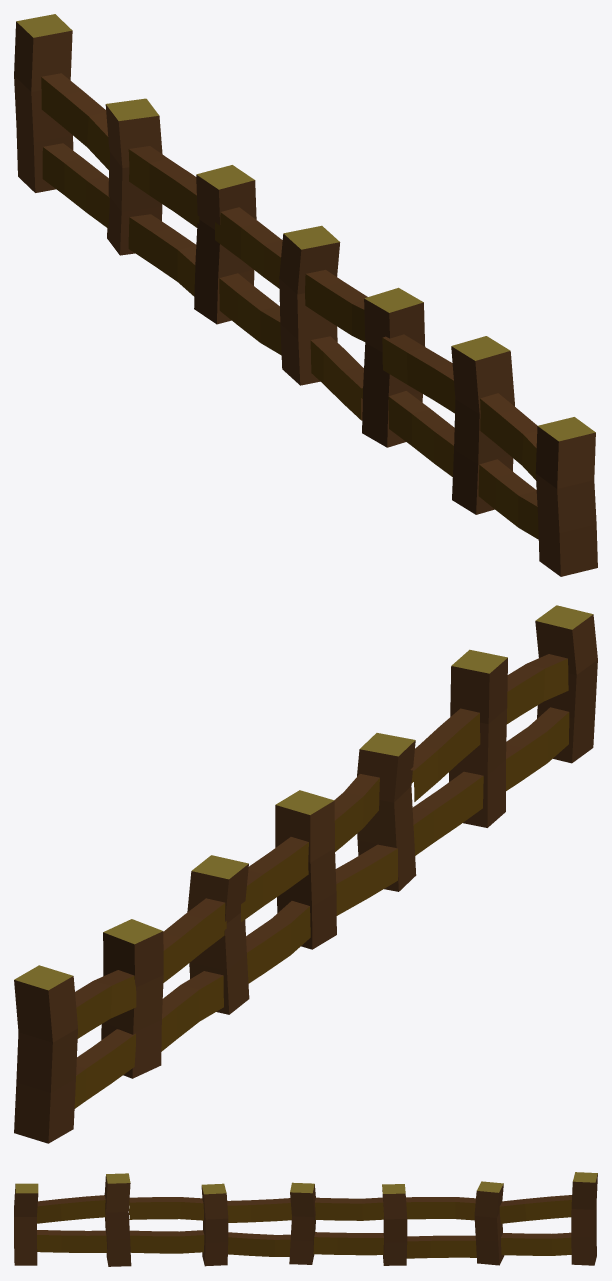
Rendered from hek_Robert_Joosten1.fbx.
3 views of the same model, one above another, from view 1: azimuth 30°, elevation 25°; view 2: azimuth 150°, elevation 25°; view 3: azimuth 270°, elevation 25° (orthographic). The views are drawn at different scales.
Parts seen in each view (by area): view 1: Cube.009; view 2: Cube.009; view 3: Cube.009.
Part boxes in pixels (<box>): Cube.009: <box>14,14,597,576</box>; Cube.009: <box>14,605,597,1143</box>; Cube.009: <box>14,1172,597,1266</box>.
Size of the model in its own units: 0.7971 by 2.44 by 15.34.
